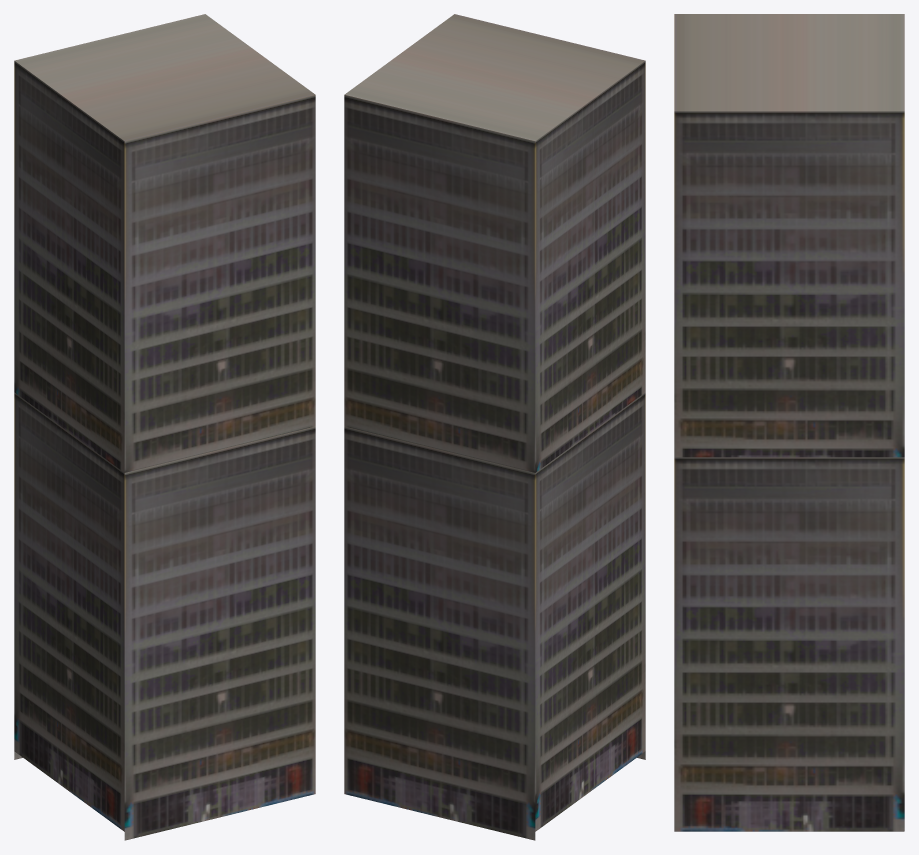
The model's file is building6.fbx.
3 views of the same model, side by side, from view 1: azimuth 30°, elevation 25°; view 2: azimuth 150°, elevation 25°; view 3: azimuth 270°, elevation 25° (orthographic). The views are drawn at different scales.
Visible parts, largest first — view 1: Building.006; view 2: Building.006; view 3: Building.006.
Boxes of the visible parts, x1=… form: Building.006: x1=14, y1=14, x2=315, y2=840; Building.006: x1=344, y1=14, x2=645, y2=840; Building.006: x1=674, y1=14, x2=904, y2=831.
Size of the model in its own units: 1394 by 4877 by 1394.
